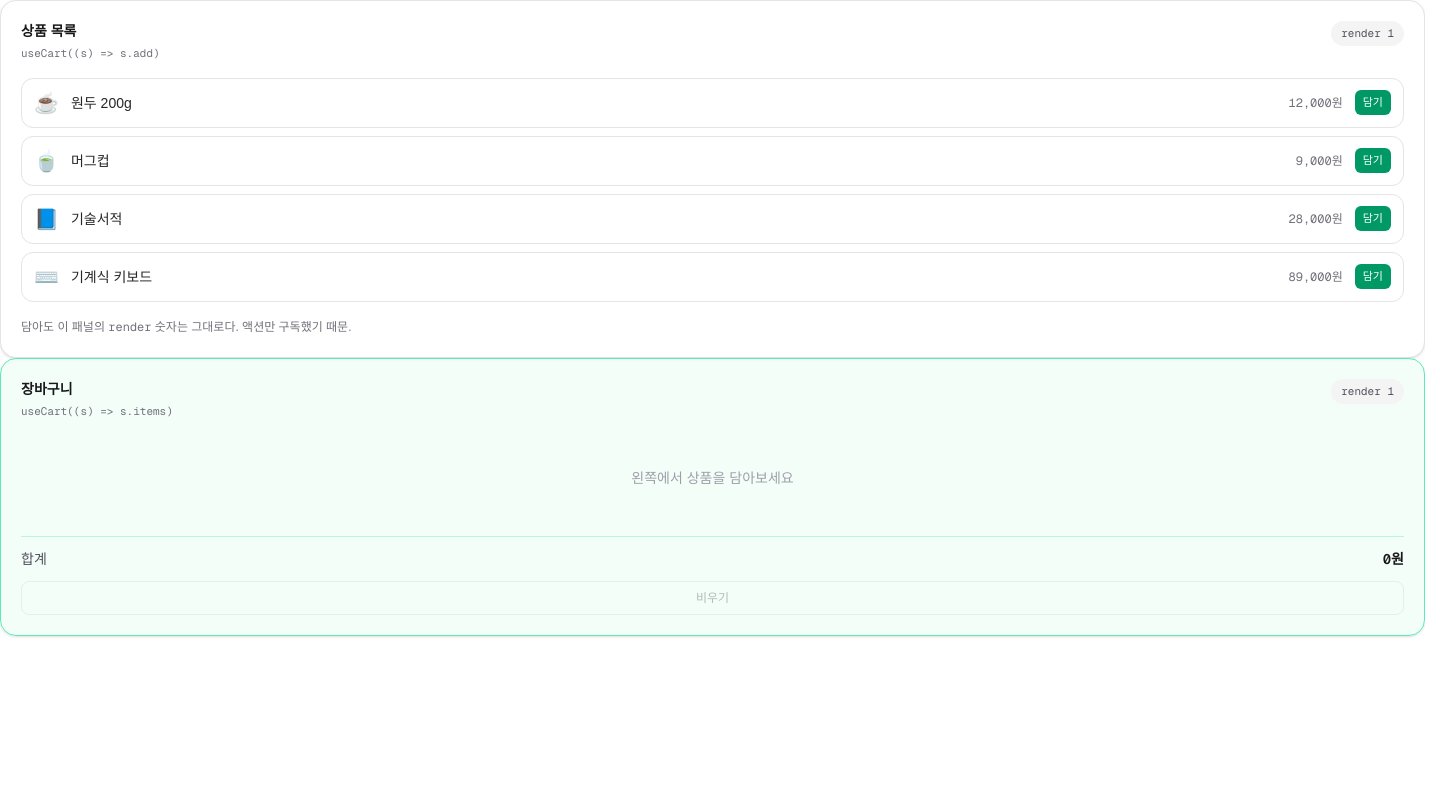
두 번 담으면 수량과 합계가 같이 오른다
This screenshot has width=1440, height=810.
What coordinates should you click on to do the following:
click the button "☕ 원두 200g 12,000원 담기"
I would click on:
 (101, 102)
Its box is [21,78,1404,128].
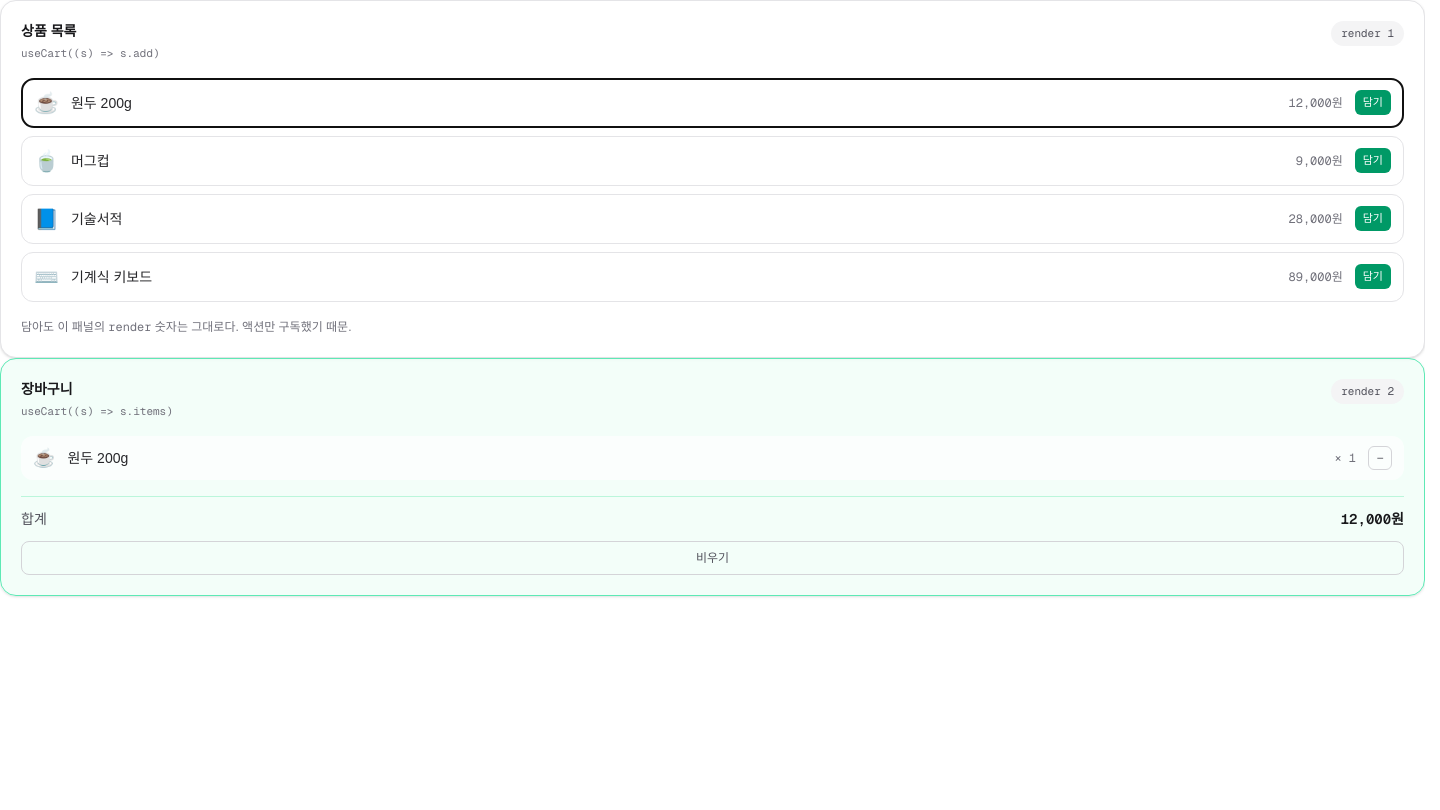
What coordinates should you click on to do the following:
click the button "☕ 원두 200g 12,000원 담기"
I would click on:
 (101, 102)
Its box is [21,78,1404,128].
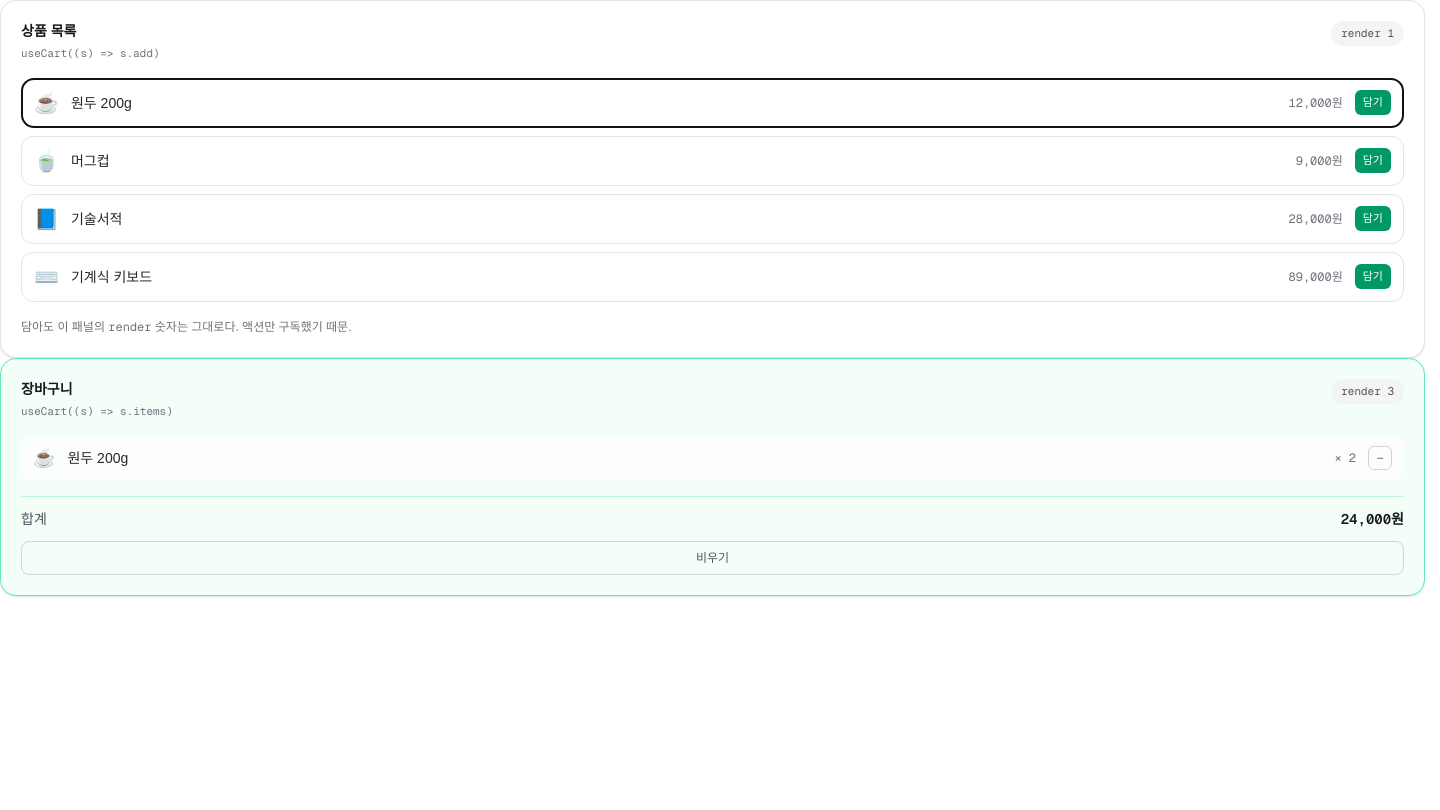
Check: the text "× 2" is shown, box [1334,450,1356,466]
Check: the text "24,000원" is shown, box [1341,508,1404,528]
